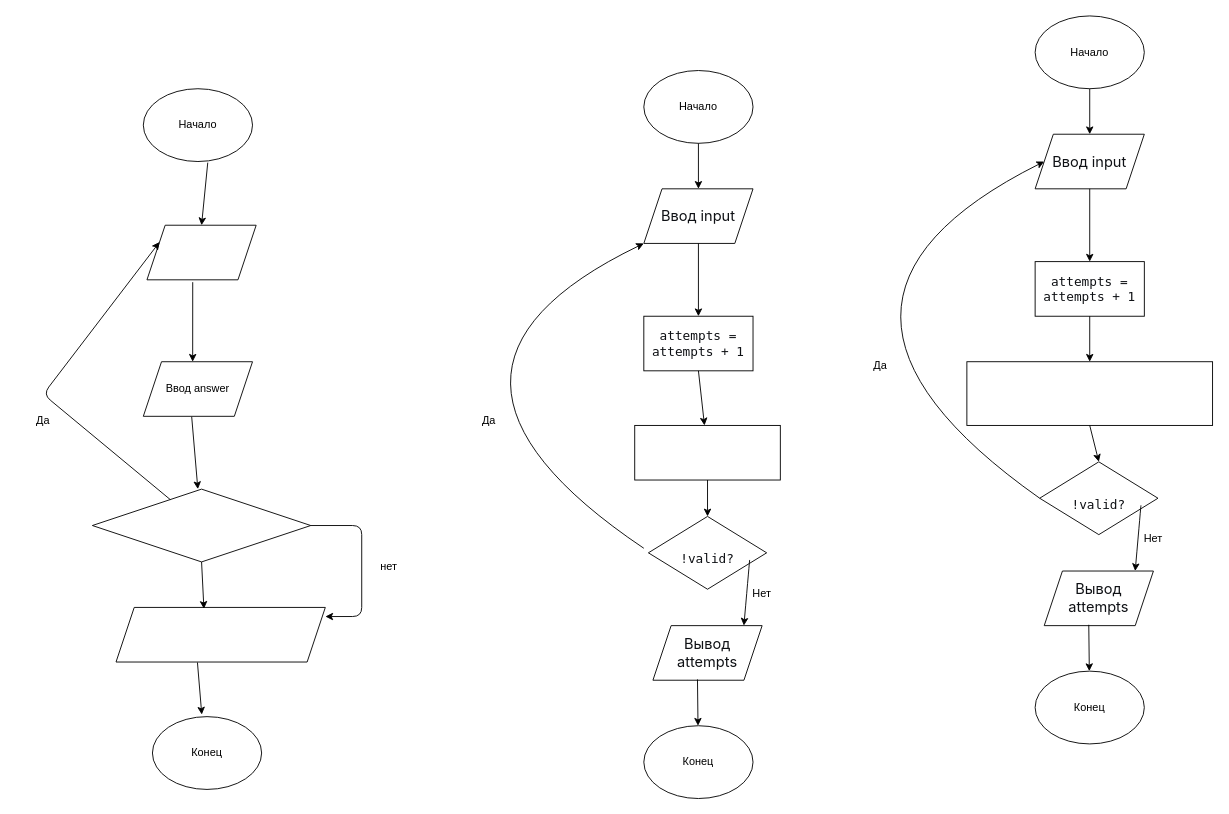
Image size: 1229x814. Some labels were removed from this diagram. Here are the shapes that lost their labels. From the top down, the box of each, then its label:
(146, 224, 256, 280): Вывод: "Привет!"
(966, 361, 1213, 425): valid = string.Equals(input, "подтверждаю", OrdinalIgnoreCase)
(634, 425, 780, 480): valid = TryParse(input) && input == 56
(91, 488, 311, 562): answer == "д" или "Д"?
(115, 607, 325, 662): Вывод: "До свидания"!
